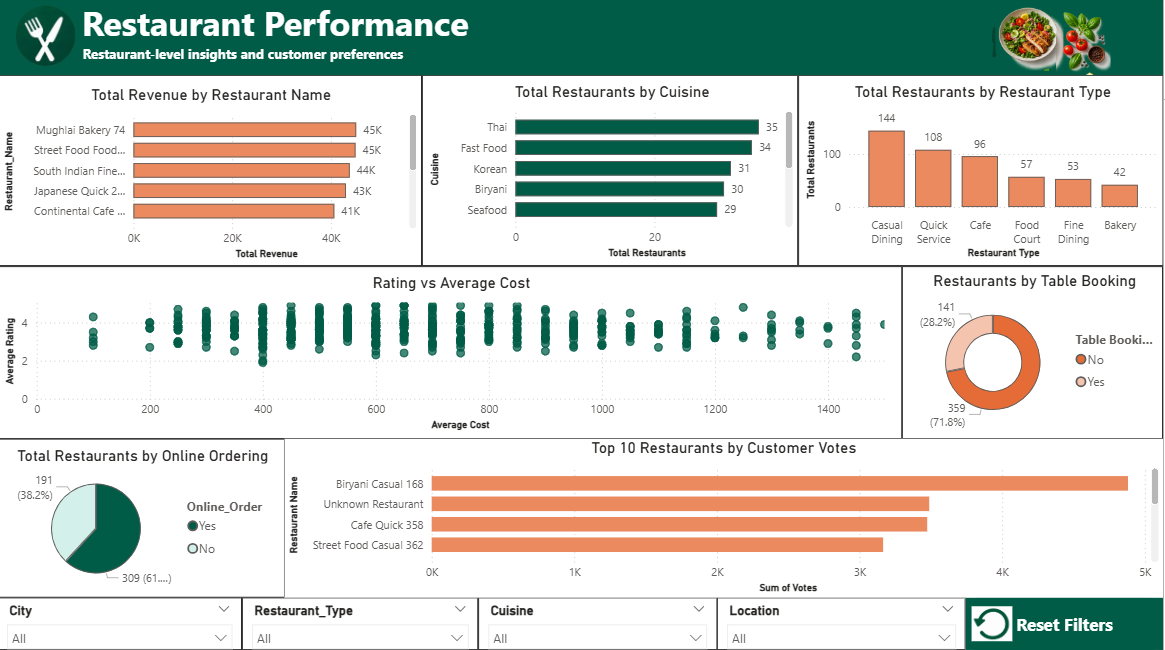

This screenshot's page, from the dashboard's own definition file:
{"tool":"powerbi","page":{"name":"Restaurant Performance","canvas":[1280,720],"ordinal":1},"visuals":[{"type":"clusteredBarChart","title":"Total Revenue by Restaurant Name","fields":{"Category":["restaurants.Restaurant_Name"],"Y":["orders.Total Revenue"]},"box":[0,87.8,466.6,209.9],"z":0},{"type":"clusteredBarChart","fields":{"Category":["cuisines.Cuisine"],"Y":["restaurants.Total Restaurants"]},"box":[466.6,87.8,413,209.9],"z":1000},{"type":"pieChart","title":"Total Restaurants by Online Ordering","fields":{"Category":["restaurants.Online_Order"],"Y":["restaurants.Total Restaurants"]},"box":[0,487.1,315.6,174.3],"z":2000},{"type":"clusteredColumnChart","title":"Total Restaurants by Restaurant Type","fields":{"Category":["restaurants.Restaurant_Type"],"Y":["restaurants.Total Restaurants"]},"box":[879.6,87.8,400.7,209.9],"z":3000},{"type":"slicer","fields":{"Values":["restaurants.Restaurant_Type"]},"box":[269,661.4,259.3,57.6],"z":4000},{"type":"slicer","fields":{"Values":["cuisines.Cuisine"]},"box":[528.3,661.4,262.1,57.6],"z":5000},{"type":"actionButton","title":"Reset Filters – Restaurant Performance","box":[1063.5,661.4,216.8,57.6],"z":6000},{"type":"scatterChart","title":"Rating vs Average Cost","fields":{"X":["Avg(restaurants.Average_Cost)"],"Y":["restaurants.Average Rating"],"Category":["restaurants.Restaurant_Name"]},"box":[0,297.8,993.5,189.4],"z":7000},{"type":"donutChart","title":"Restaurants by Table Booking","fields":{"Category":["restaurants.Table_Booking"],"Y":["restaurants.Total Restaurants"]},"box":[993.5,297.8,286.8,189.4],"z":8000},{"type":"slicer","fields":{"Values":["locations.City"]},"box":[0,661.4,269,57.6],"z":9000},{"type":"slicer","fields":{"Values":["locations.Location"]},"box":[790.4,661.4,273.1,57.6],"z":10000},{"type":"clusteredBarChart","title":"Top 10 Restaurants by Customer Votes","fields":{"Category":["restaurants.Restaurant_Name"],"Y":["Sum(restaurants.Votes)"]},"box":[315.6,487.1,964.7,174.3],"z":11000},{"type":"textbox","box":[0,0,1280.3,87.8],"z":12000},{"type":"image","box":[15.1,6.9,72.7,75.5],"z":13000},{"type":"image","box":[1092.3,0,78.2,87.8],"z":14000},{"type":"image","box":[1145.8,11,93.3,76.8],"z":15000},{"type":"image","box":[1063.5,671,57.6,38.4],"z":16000}]}

Visuals, with their boxes in screenshot pixels (x1, y1, x2, y2), scaled from the page's 1280x720 canvas onto the 1165x650 screenshot:
"Total Revenue by Restaurant Name" clusteredBarChart: crop(0, 79, 425, 269)
clusteredBarChart - cuisines.Cuisine x restaurants.Total Restaurants: crop(425, 79, 801, 269)
"Total Restaurants by Online Ordering" pieChart: crop(0, 440, 287, 597)
"Total Restaurants by Restaurant Type" clusteredColumnChart: crop(801, 79, 1164, 269)
slicer - restaurants.Restaurant_Type: crop(245, 597, 481, 649)
slicer - cuisines.Cuisine: crop(481, 597, 719, 649)
"Reset Filters – Restaurant Performance" actionButton: crop(968, 597, 1164, 649)
"Rating vs Average Cost" scatterChart: crop(0, 269, 904, 440)
"Restaurants by Table Booking" donutChart: crop(904, 269, 1164, 440)
slicer - locations.City: crop(0, 597, 245, 649)
slicer - locations.Location: crop(719, 597, 968, 649)
"Top 10 Restaurants by Customer Votes" clusteredBarChart: crop(287, 440, 1164, 597)
textbox: crop(0, 0, 1164, 79)
image: crop(14, 6, 80, 74)
image: crop(994, 0, 1065, 79)
image: crop(1043, 10, 1128, 79)
image: crop(968, 606, 1020, 640)
